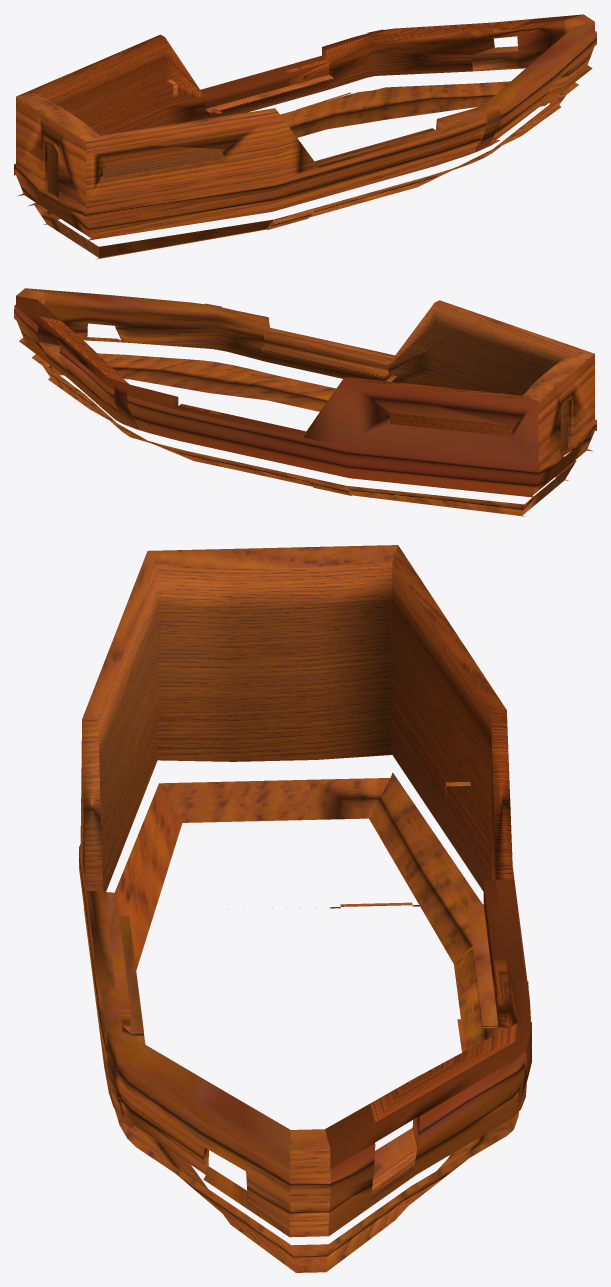
Rendered from cube.111_lev2.glb.
3 renders of one model, top to bottom at view 1: azimuth 30°, elevation 25°; view 2: azimuth 150°, elevation 25°; view 3: azimuth 270°, elevation 25°, orthographic. The views are drawn at different scales.
Parts seen in each view (by area): view 1: cube.111_lev2; view 2: cube.111_lev2; view 3: cube.111_lev2.
Part boxes in pixels (<box>): cube.111_lev2: <box>14,14,596,259</box>; cube.111_lev2: <box>14,288,596,516</box>; cube.111_lev2: <box>79,545,531,1272</box>.
Size of the model in its own units: 6.47 by 1.43 by 2.33.
1 material, 1 textured.
